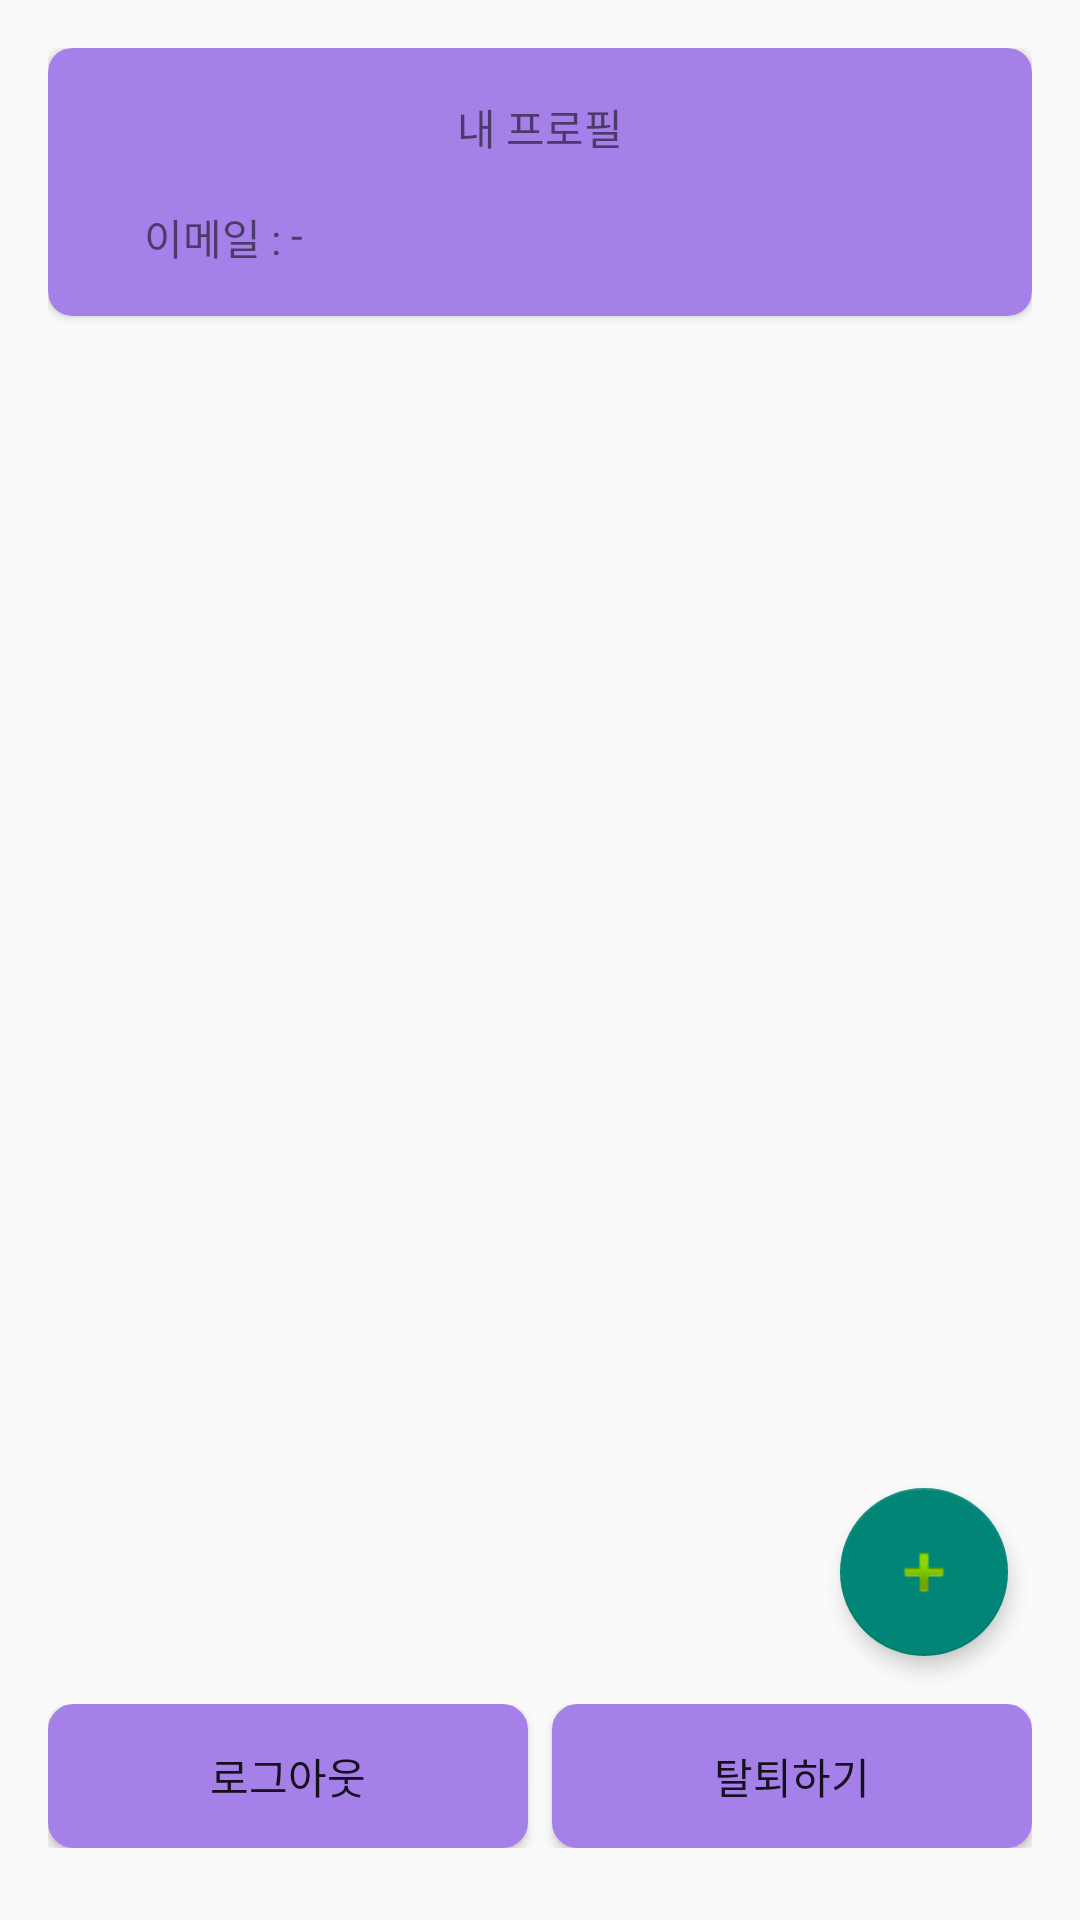

Icon click points for this 1080*1920 phone screenshot, format [x,y]:
add: [924,1572]
